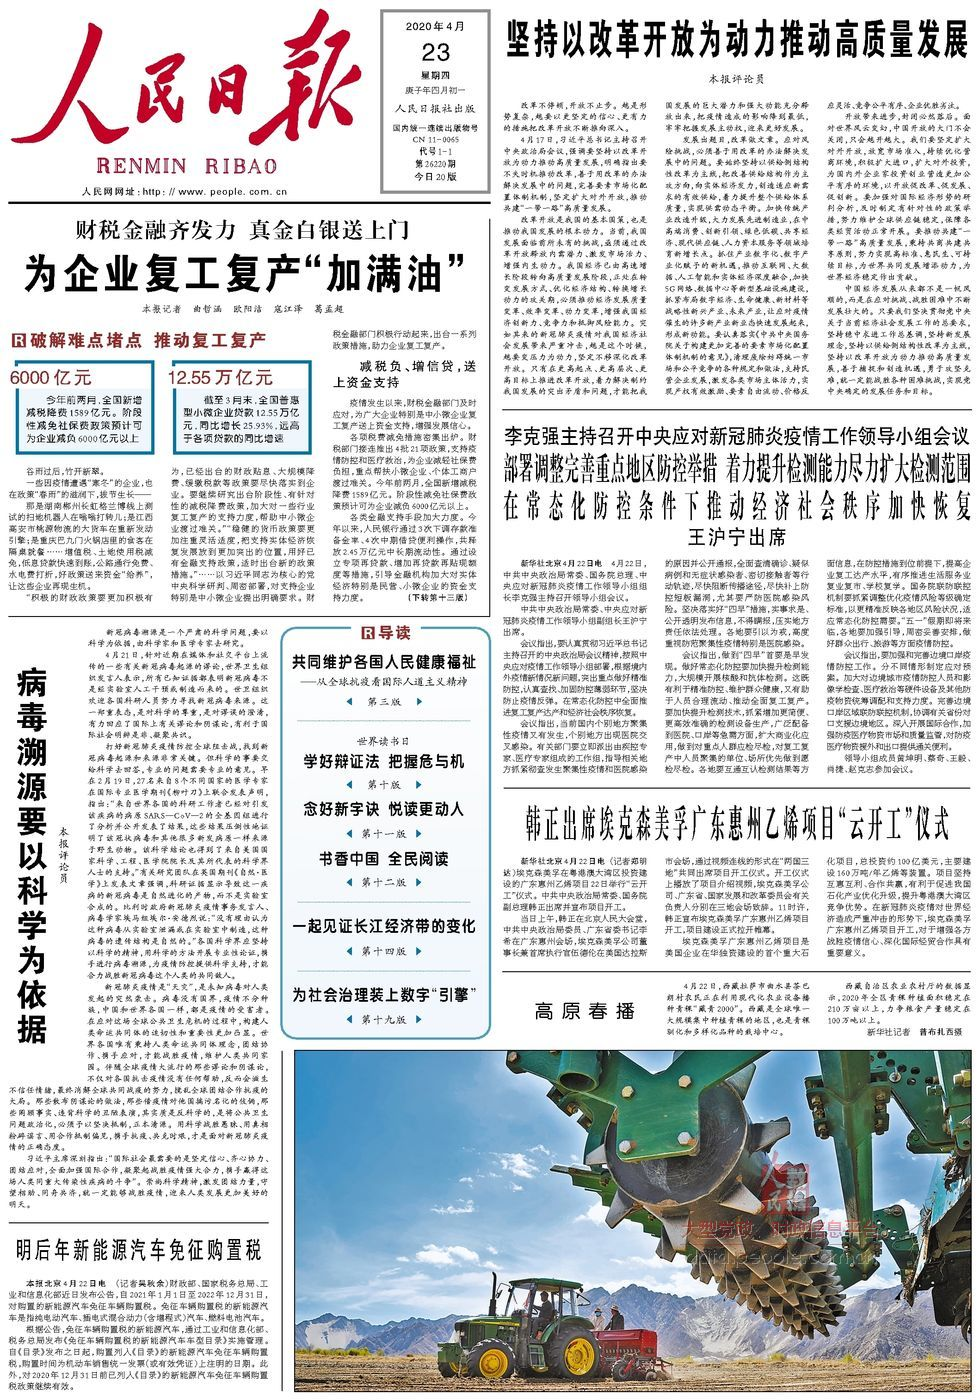pic: (289, 1045, 977, 1395)
